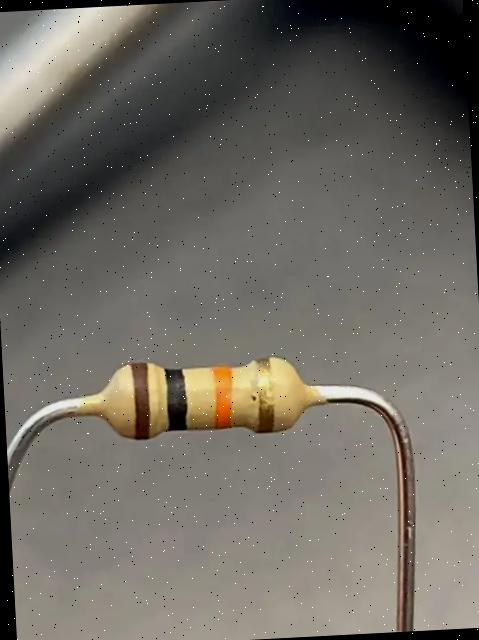black: (165, 368, 188, 430)
brown: (129, 360, 149, 440)
gold: (256, 357, 274, 433)
orange: (211, 366, 232, 429)
resistor: (79, 337, 318, 460)
